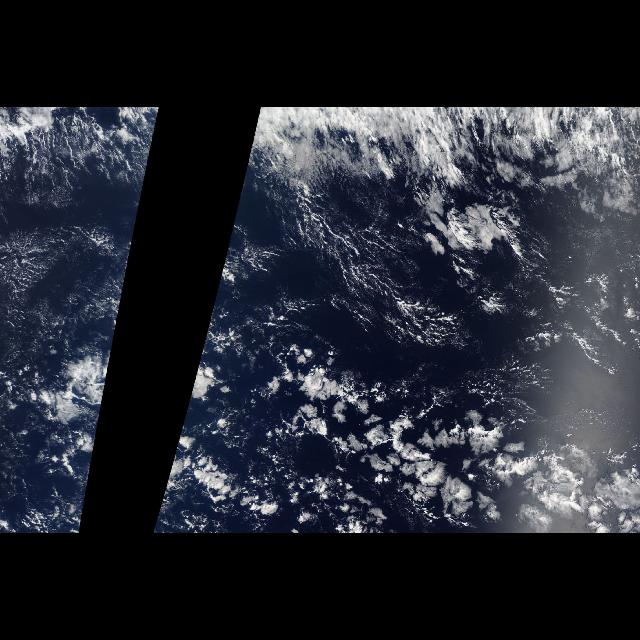Flower: (289, 354, 626, 528)
Sugar: (7, 155, 114, 347)
